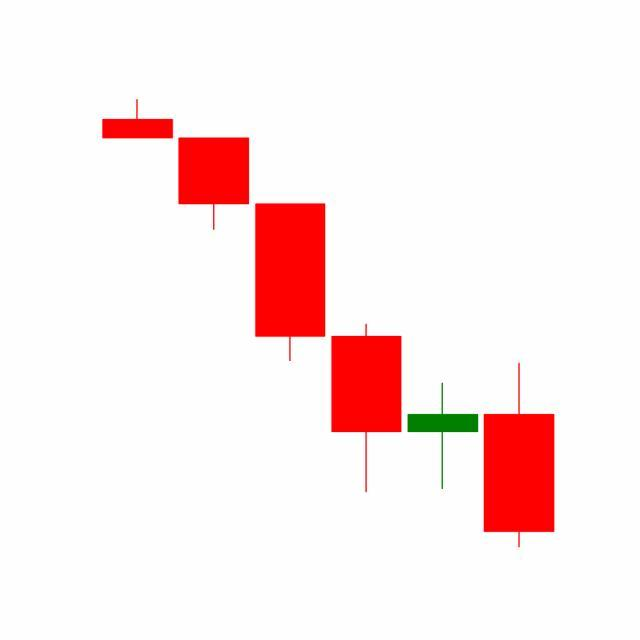Spinning Top: (404, 381, 482, 491)
